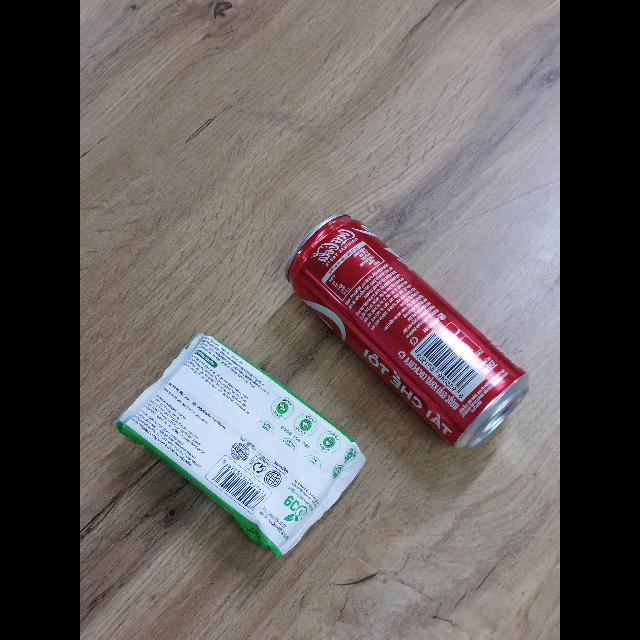coca_cola: (287, 215, 528, 451)
khan_giay: (115, 334, 367, 559)
